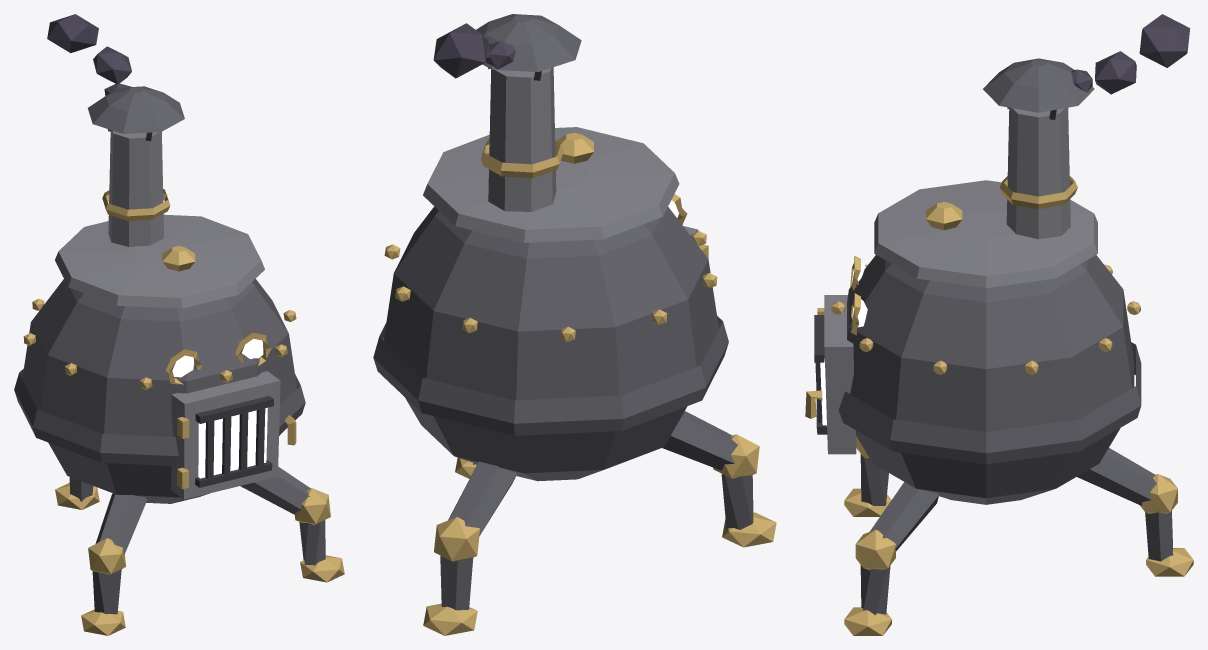
Rendered from engine-stove.glb.
3 renders of one model, left to right at view 1: azimuth 30°, elevation 25°; view 2: azimuth 150°, elevation 25°; view 3: azimuth 270°, elevation 25°, orthographic. The views are drawn at different scales.
Parts seen in each view (by area): view 1: stove_body; view 2: stove_body; view 3: stove_body.
Boxes of the visible parts, bbox=[...] form: stove_body: bbox=[14, 14, 344, 635]; stove_body: bbox=[373, 14, 776, 635]; stove_body: bbox=[805, 14, 1193, 635].
Size of the model in its own units: 0.473 by 0.864 by 0.554.
